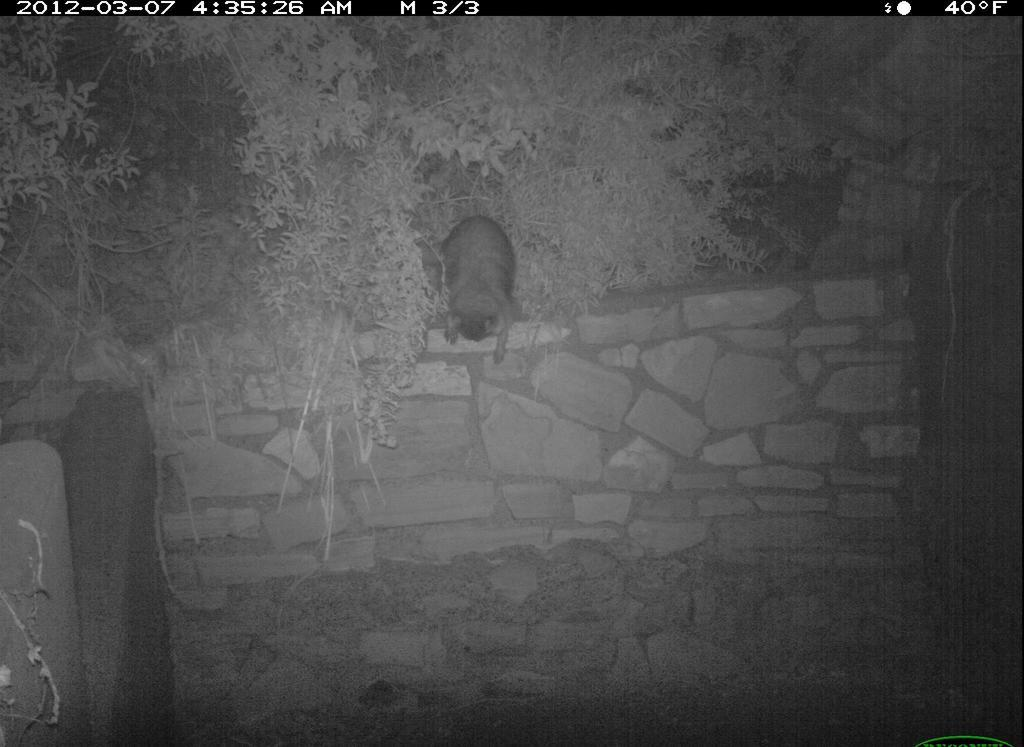raccoon: (432, 209, 528, 368)
